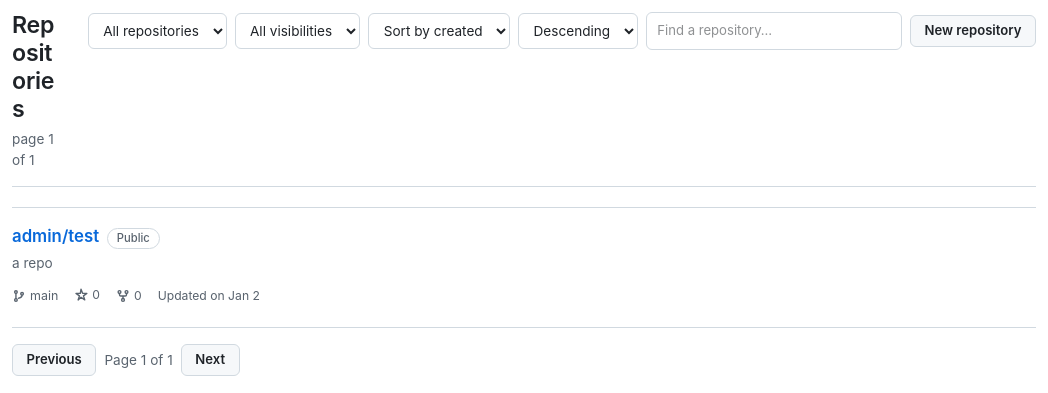
RepoListPage search across pages › finds a match on a later page by walking the Link headers
expect the link "admin/test" is shown: met, box [12,224,99,249]
Type "zebra" into the search field labelled "Find a repository" at (774, 31), box [646,12,902,50]
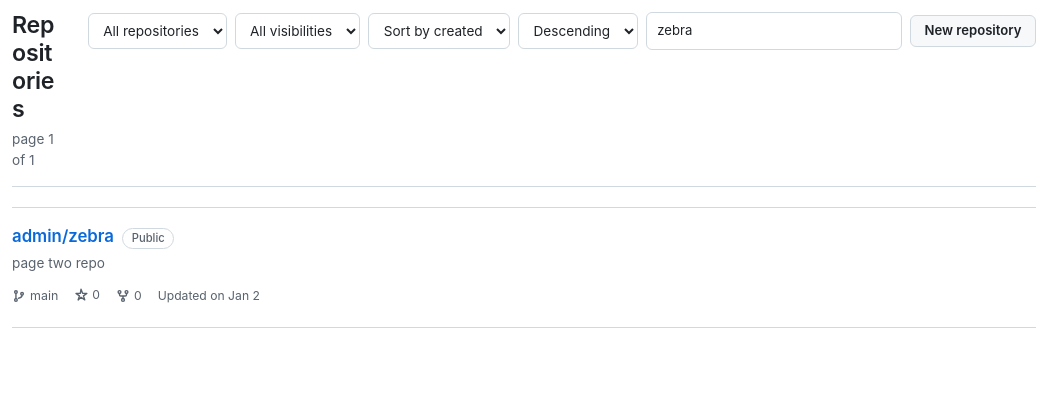
expect the link "admin/zebra" is shown: met, box [12,224,114,249]
